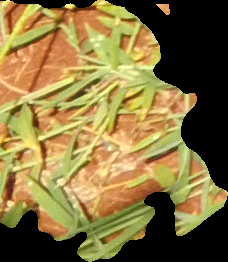grass: (1, 1, 226, 261)
